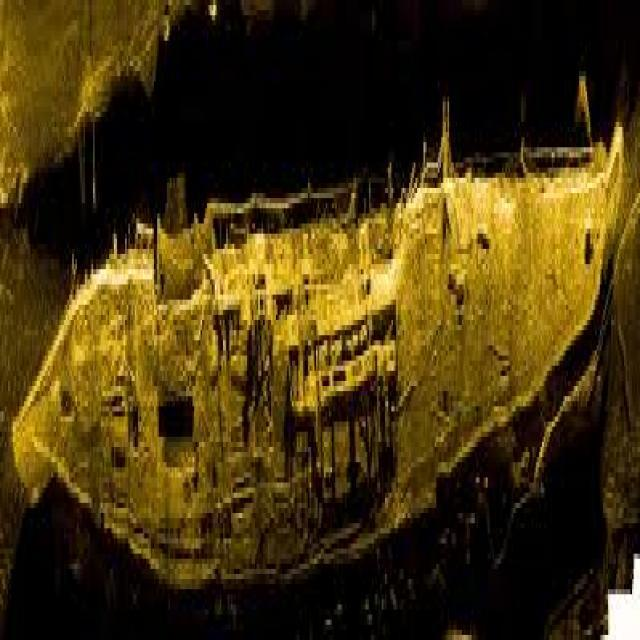shipwreck: (16, 112, 626, 574)
